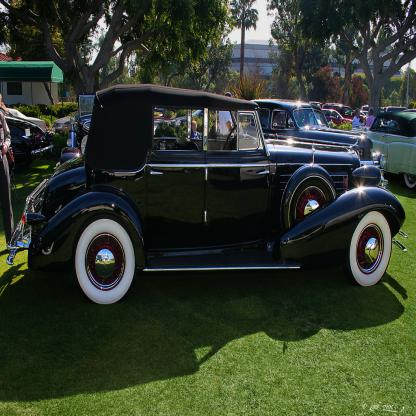Car: (2, 78, 416, 304)
